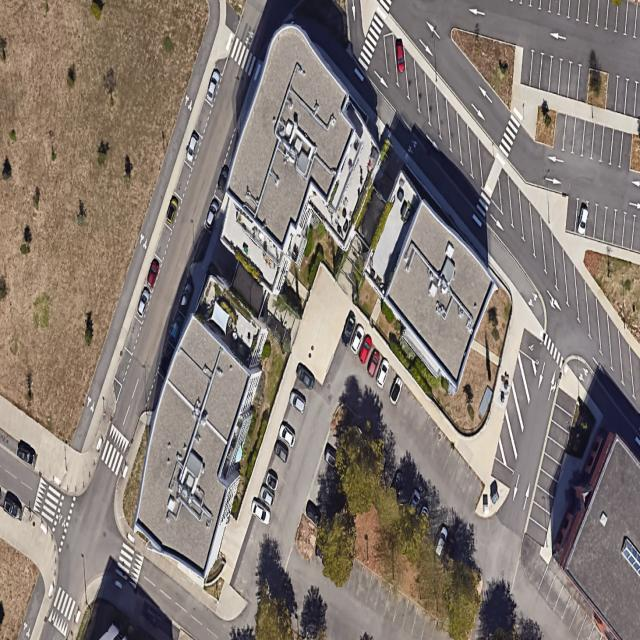immeuble: (193, 19, 412, 311), (319, 169, 536, 396), (125, 274, 276, 578), (555, 431, 640, 639)
